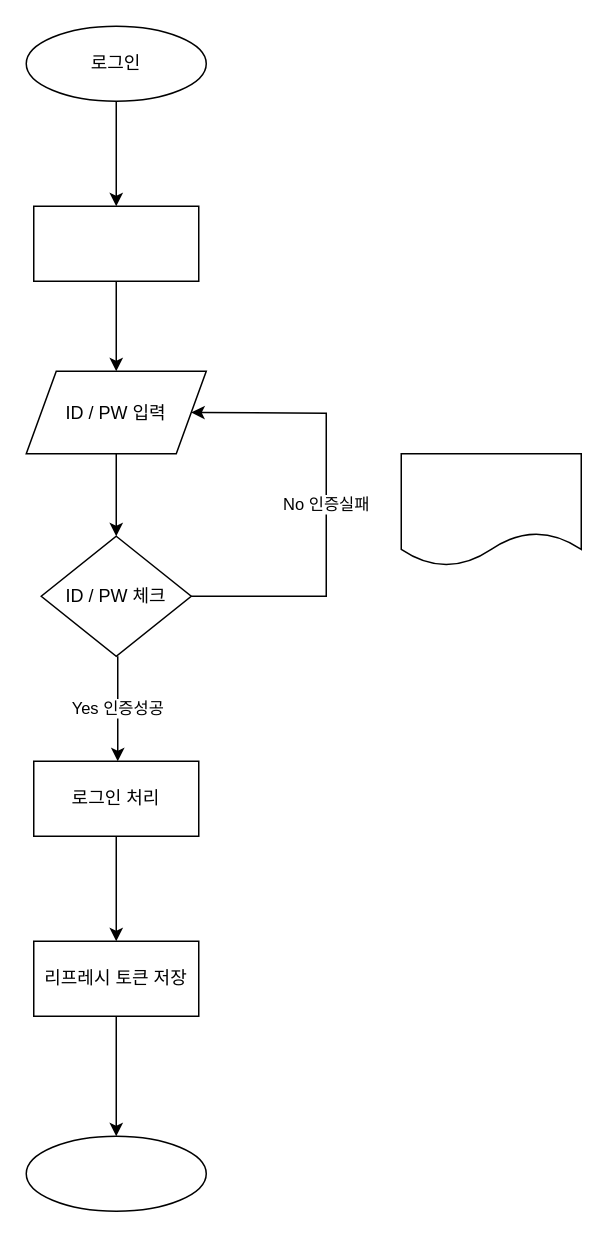
Some shapes in this 608 by 1238 pixel diagram are drawn without their labels. Each missing label, with the centre of its shape:
"[Error] 아이디 혹은 비밀번호가 잘못되었습니다" belongs at (490,509).
"로그인 성공" belongs at (115,1173).
"로그인 폼" belongs at (115,243).
